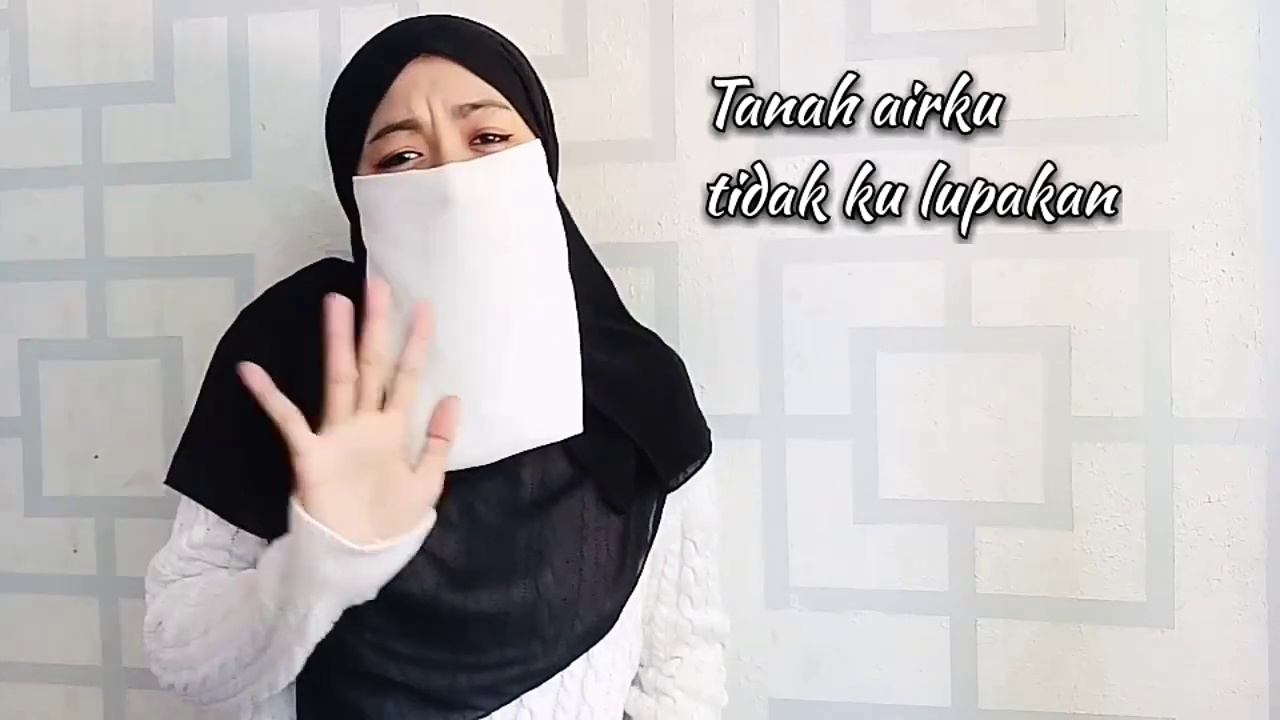TIDAK KU LUPAKAN: (215, 6, 578, 658)
